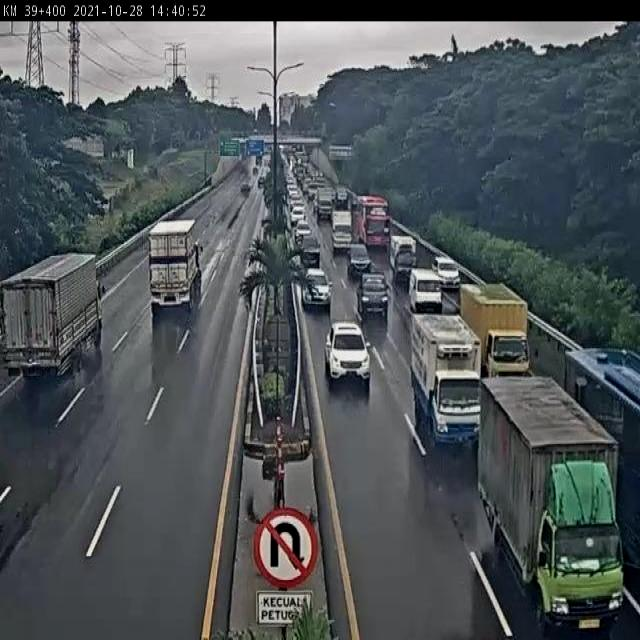Car: (324, 321, 370, 387), (357, 272, 389, 319), (300, 267, 332, 311), (390, 239, 418, 287), (431, 255, 461, 290), (290, 202, 306, 226), (333, 188, 349, 208), (310, 170, 325, 190), (293, 162, 305, 184), (285, 178, 296, 201), (261, 152, 271, 173), (293, 145, 305, 160), (280, 145, 288, 162), (290, 156, 296, 173), (258, 173, 265, 187), (252, 165, 258, 175)
Truck: (479, 377, 619, 624), (0, 253, 103, 380), (410, 309, 482, 449), (464, 271, 536, 373), (148, 219, 201, 313), (353, 195, 389, 251)
